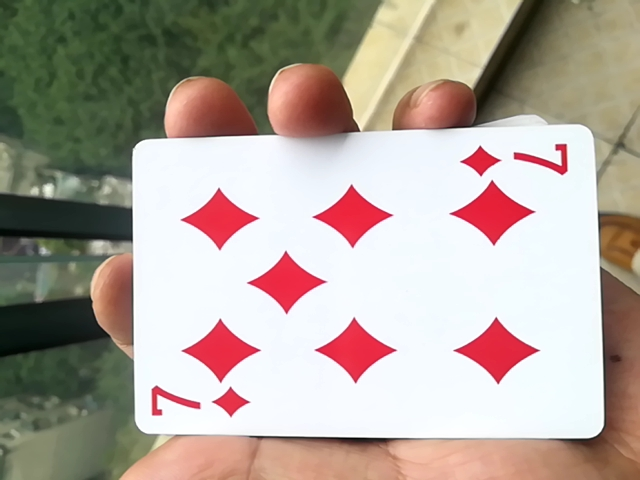fk 7: (114, 126, 600, 451)
